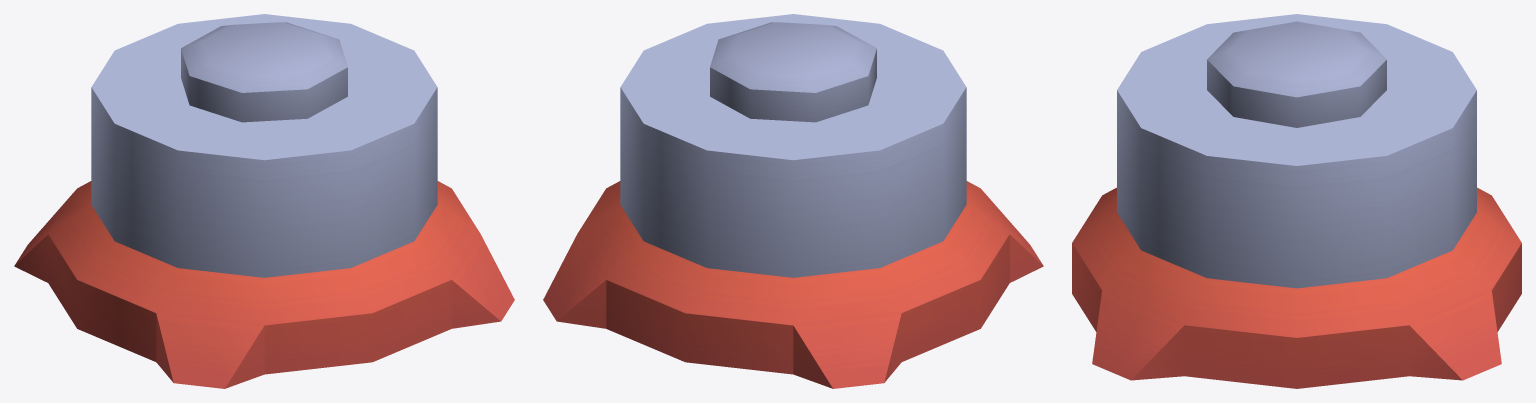
Rendered from tower-round-bottom-b.fbx.
The picture shows the model from 3 angles, left to right: view 1: azimuth 30°, elevation 25°; view 2: azimuth 150°, elevation 25°; view 3: azimuth 270°, elevation 25°; orthographic projection. The views are drawn at different scales.
Parts seen in each view (by area): view 1: tower-round-bottom-b; view 2: tower-round-bottom-b; view 3: tower-round-bottom-b.
Boxes of the visible parts, x1=… form: tower-round-bottom-b: x1=14, y1=14, x2=514, y2=388; tower-round-bottom-b: x1=543, y1=14, x2=1043, y2=388; tower-round-bottom-b: x1=1072, y1=14, x2=1521, y2=388.
Bounding box in the file's own units: 100 × 60 × 100.
